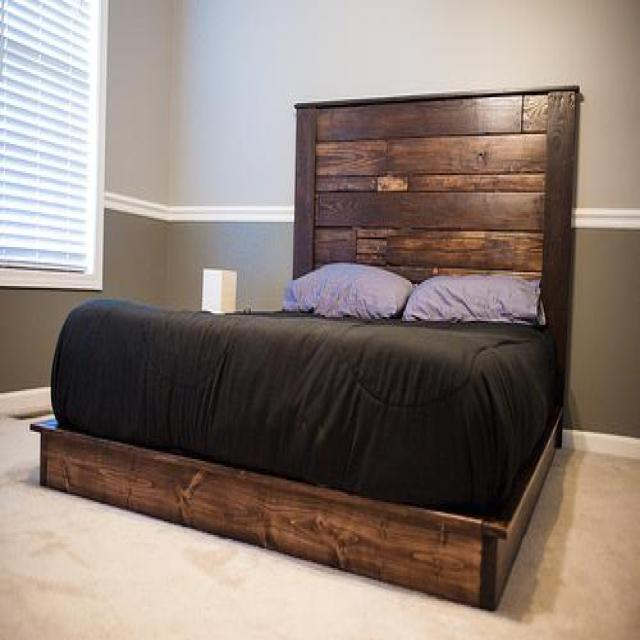bed: (30, 84, 582, 610)
